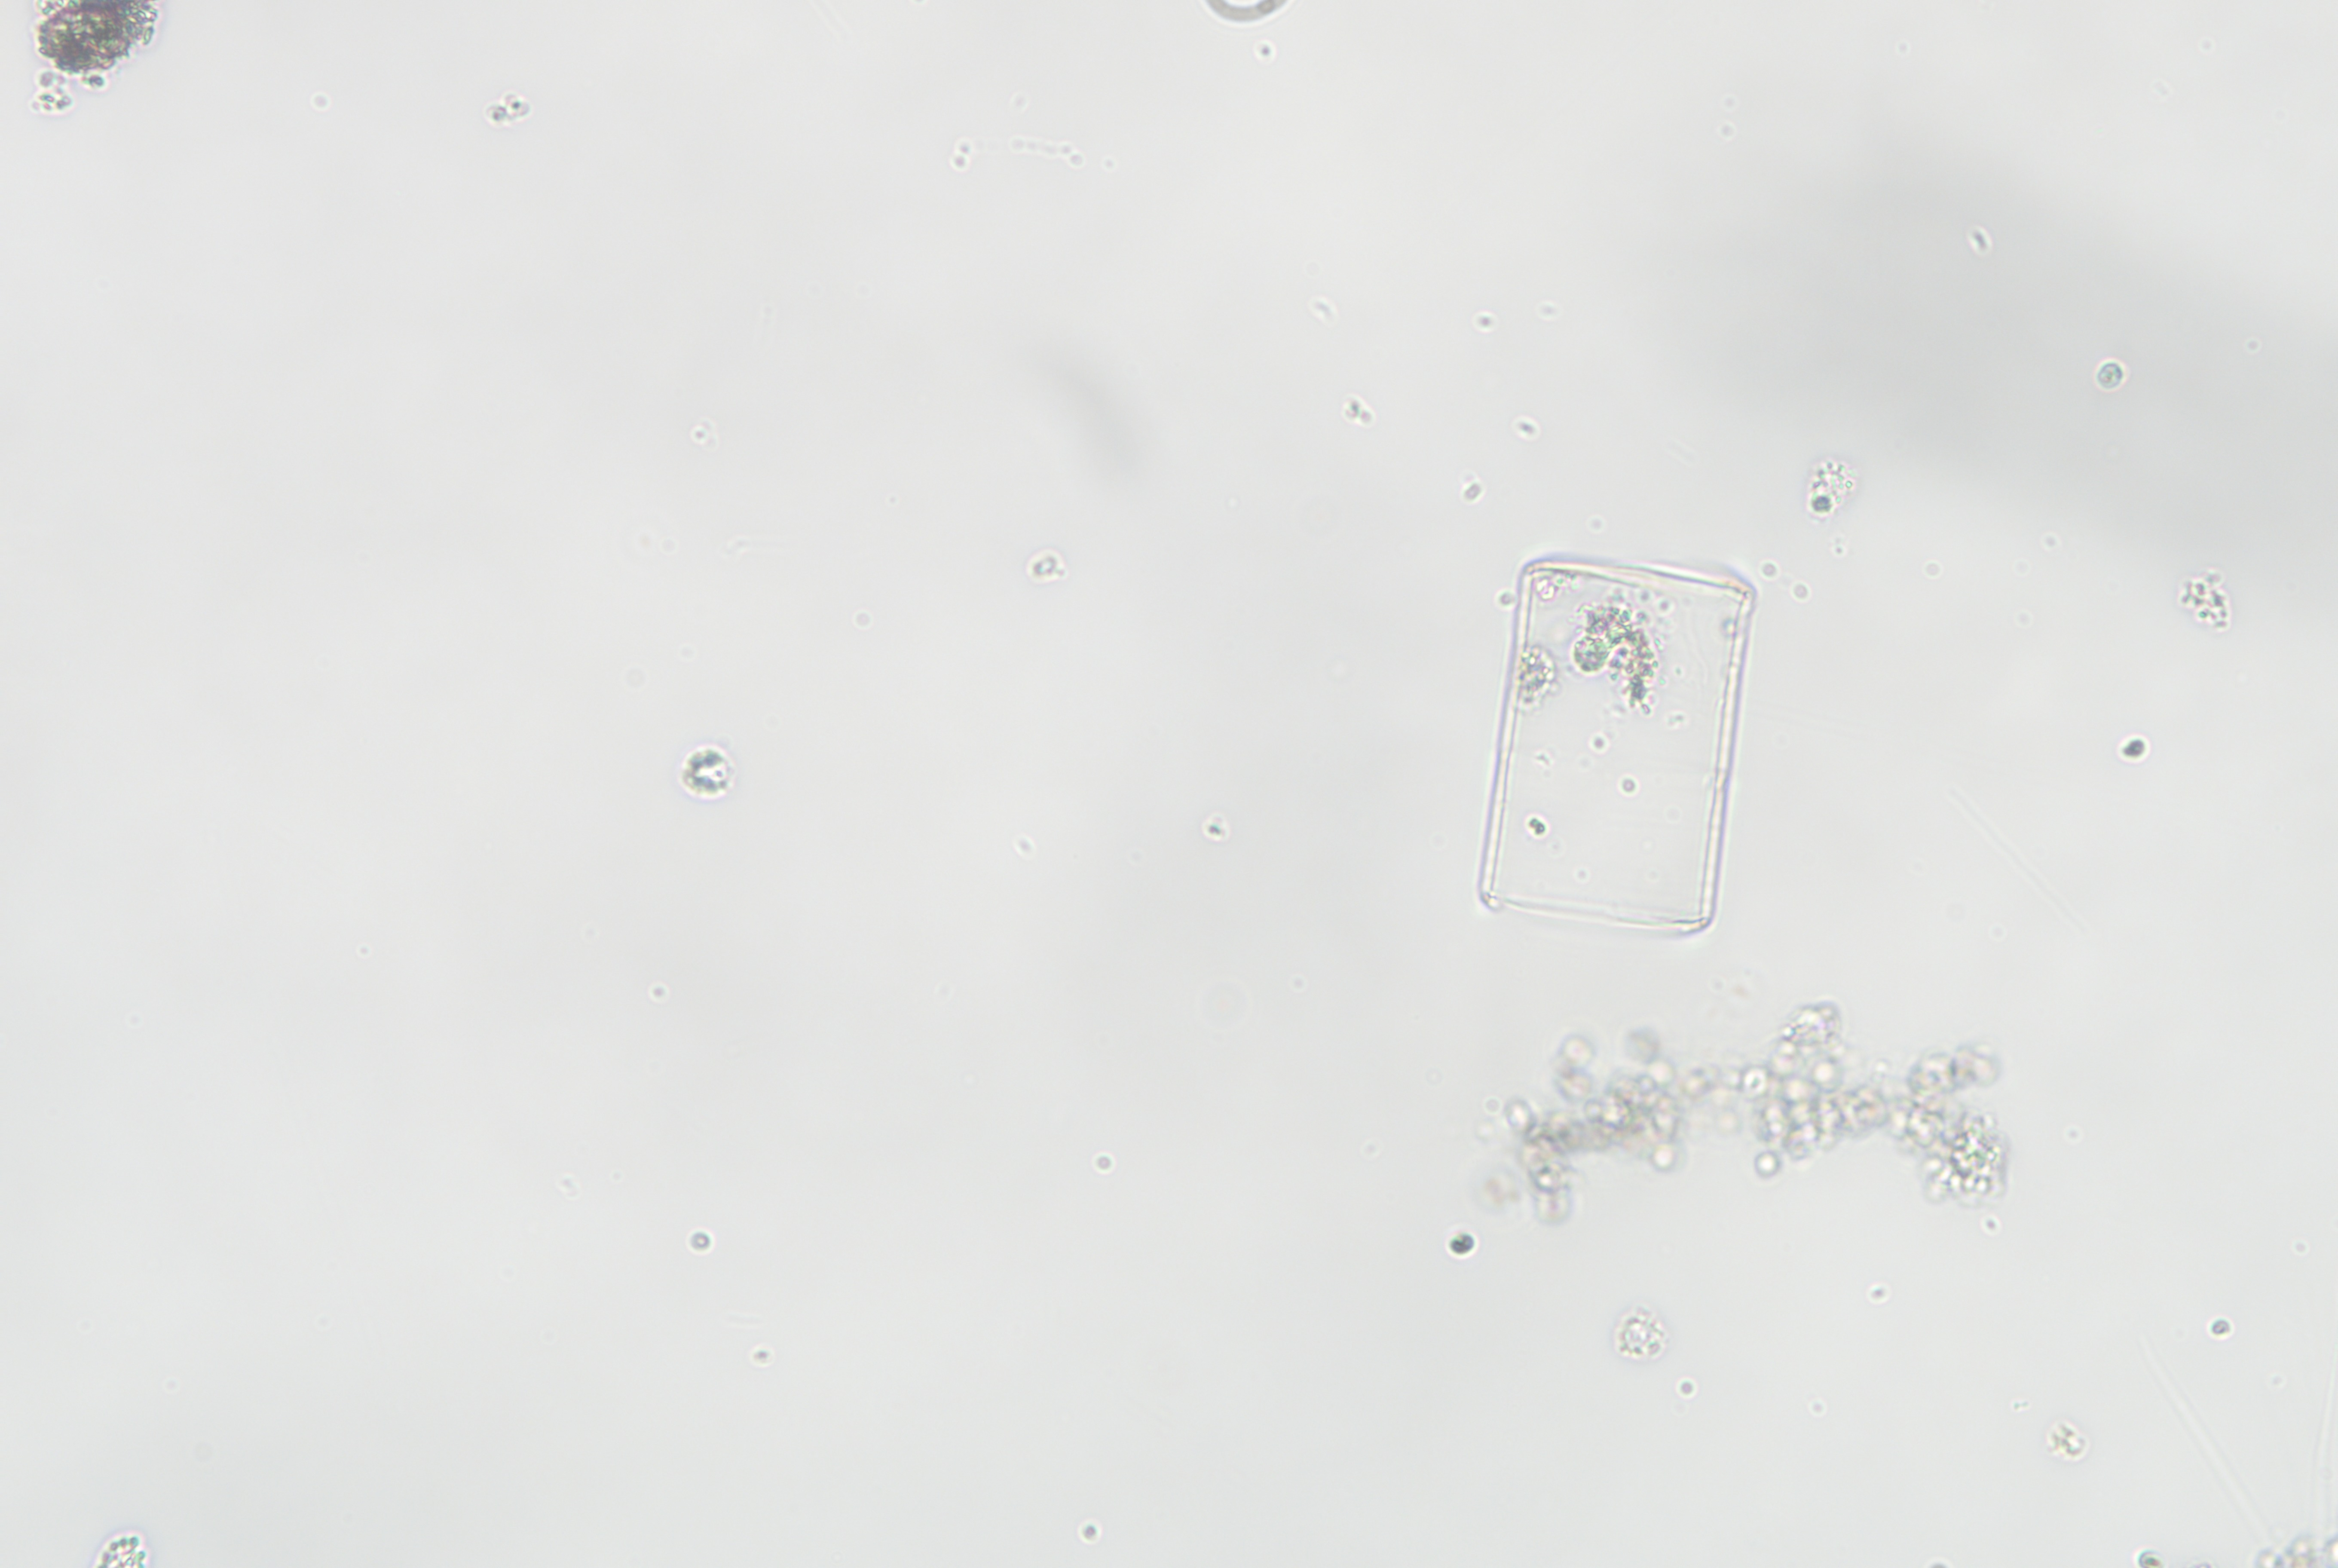guinardia flaccida: (1425, 520, 1780, 980)
